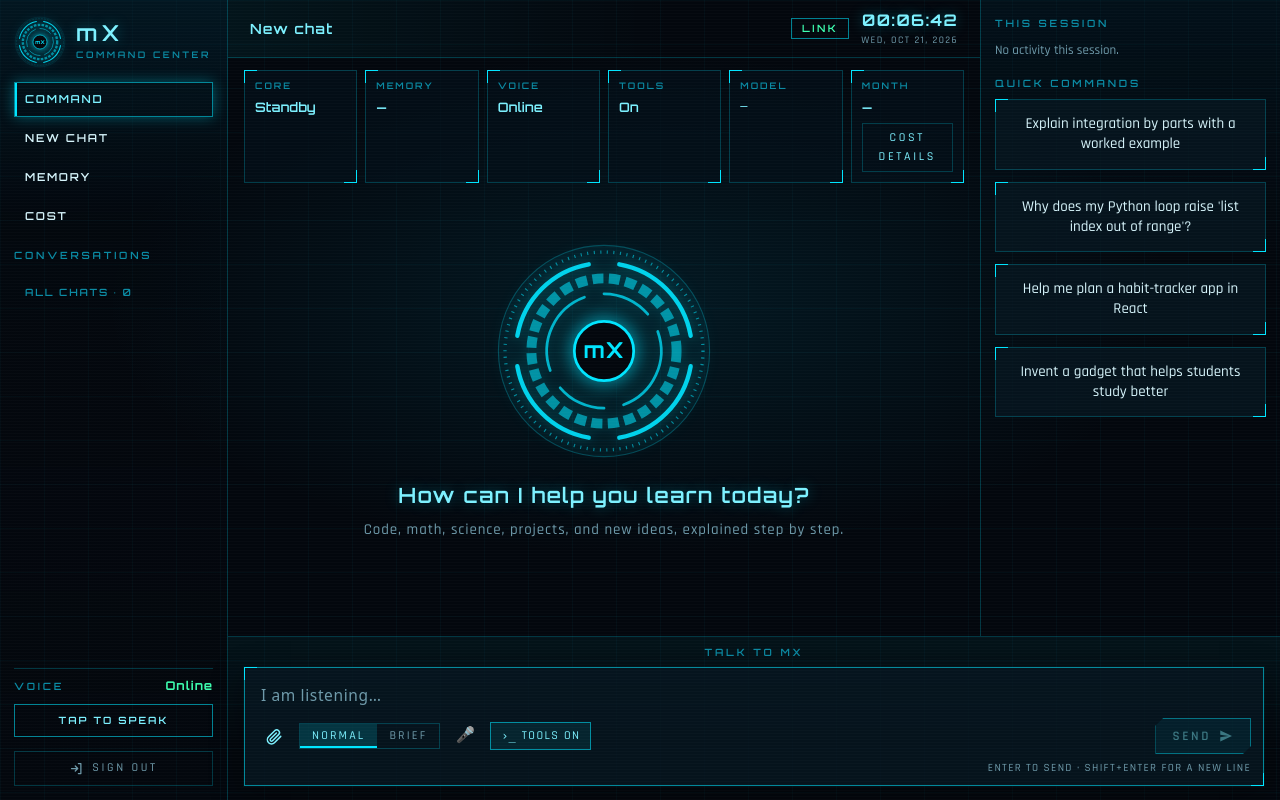
Test: chatting › shows a code run live: running, then done, then the answer
Type "Compute 2^100" into the text box named "Message" at point(754, 695), box [257, 678, 1251, 712]
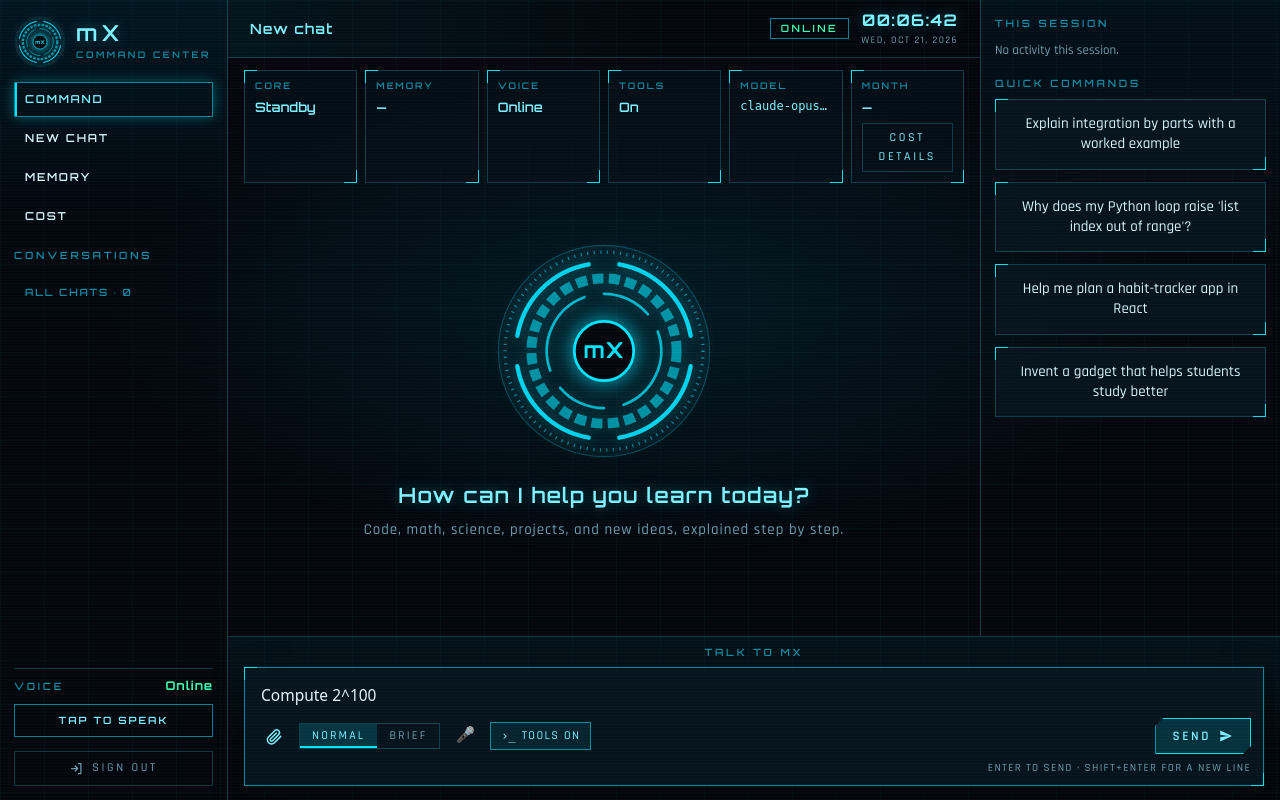
Press Enter in the text box named "Message", box [257, 678, 1251, 712]
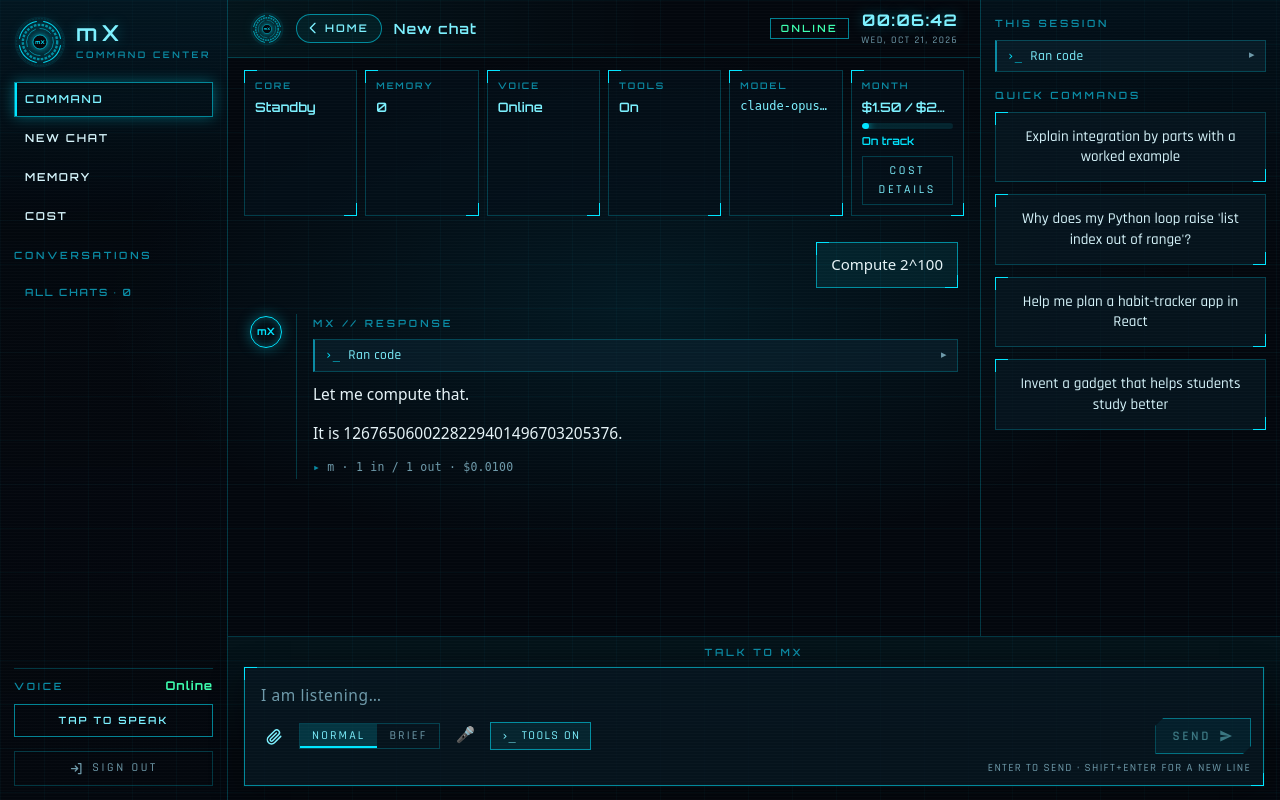
Click the 2nd text "Ran code" at point(375, 356), box [348, 345, 402, 366]
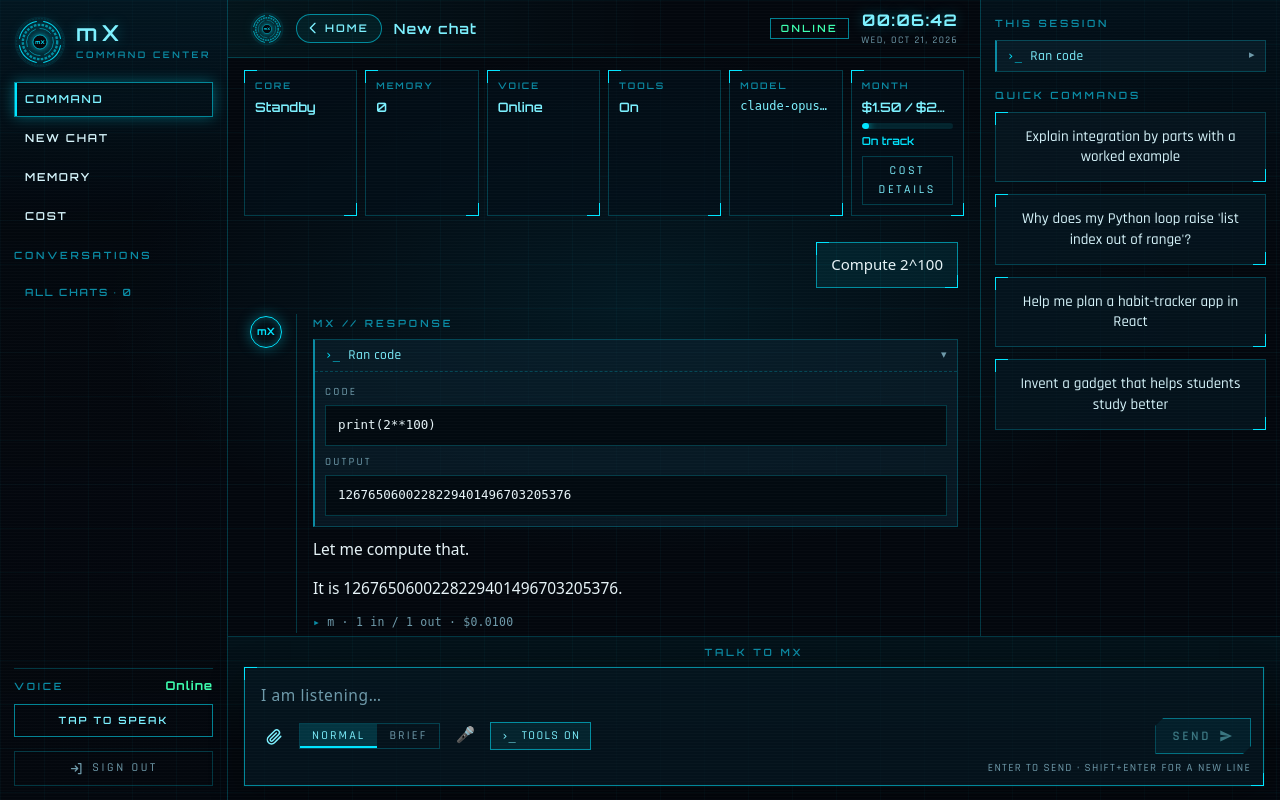
Check: the text "It is 1267650600228229401496703205376." is shown, box [313, 577, 622, 599]
Check: the text "print(2**100)" is shown, box [325, 405, 947, 446]
